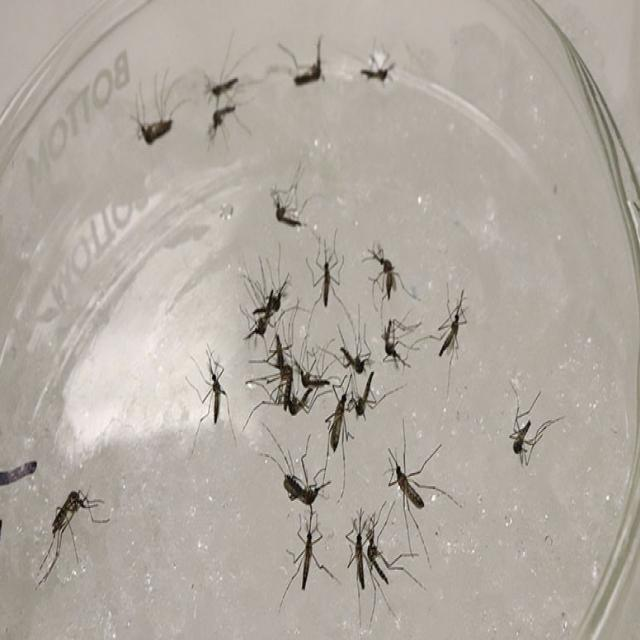Mosquito: (23, 453, 116, 610), (197, 34, 252, 159), (131, 67, 191, 166), (503, 389, 558, 491), (348, 30, 410, 111), (282, 11, 336, 100)
Mosquito Swarm: (183, 152, 485, 617)
